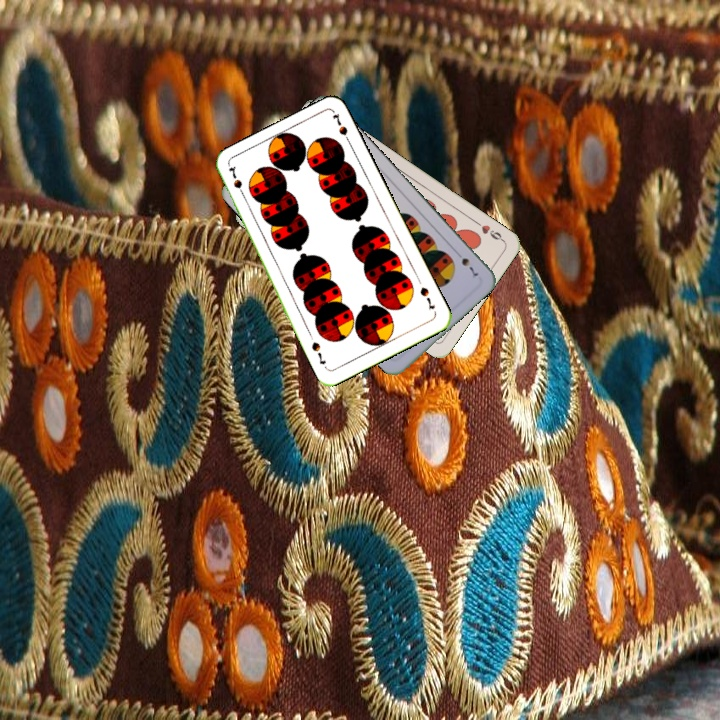H9: (471, 217, 506, 244)
S7: (451, 247, 481, 279), (224, 163, 248, 201), (416, 283, 438, 312)
